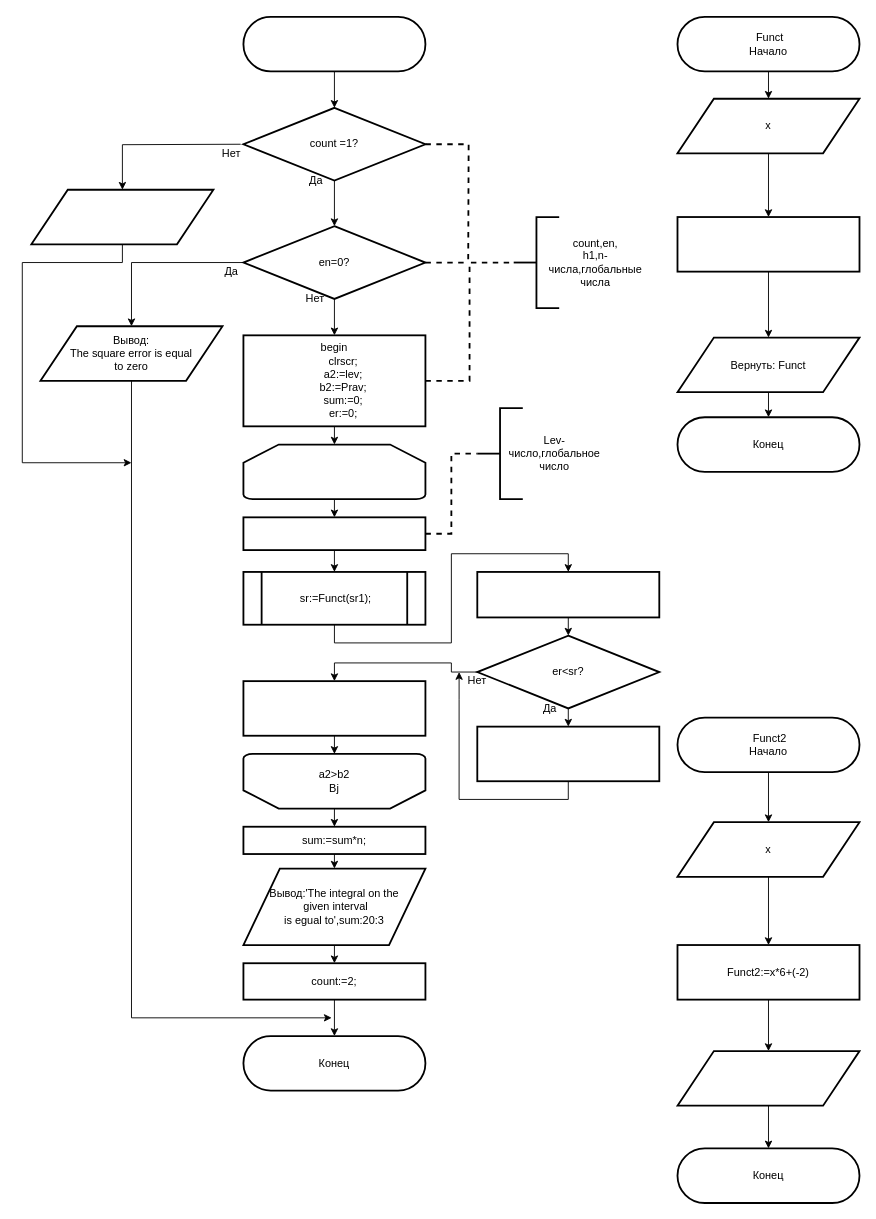
The diagram is 876 pixels wide and 1219 high, and some of its shapes have lost their labels. Each missing label, with the box of its shape:
a2:=a2+n;: (242, 680, 426, 736)
Bj: (242, 443, 426, 500)
er:=sr: (476, 725, 660, 782)
Funct:=x*x*x+(-1)*x*x+(-3)*x+15;: (676, 216, 860, 272)
prthd Начало: (242, 15, 426, 72)
sr1:=a2+n/2;: (242, 516, 426, 551)
sum:=sum+sr;: (476, 571, 660, 618)
Вернуть:Funct2: (676, 1050, 860, 1106)
Вывод:You have not entered data.press enter: (30, 188, 214, 245)
